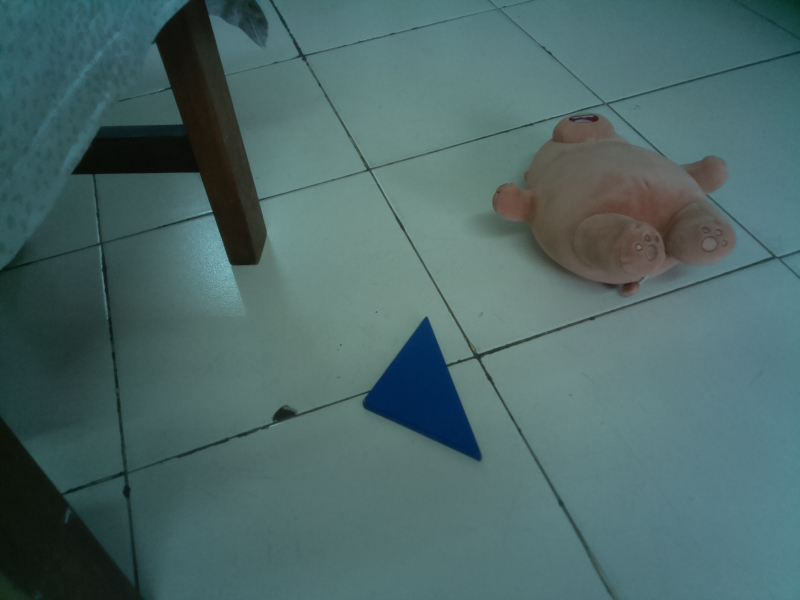Triangle: (359, 313, 491, 467)
